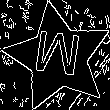M_S: (32, 29, 84, 86)
